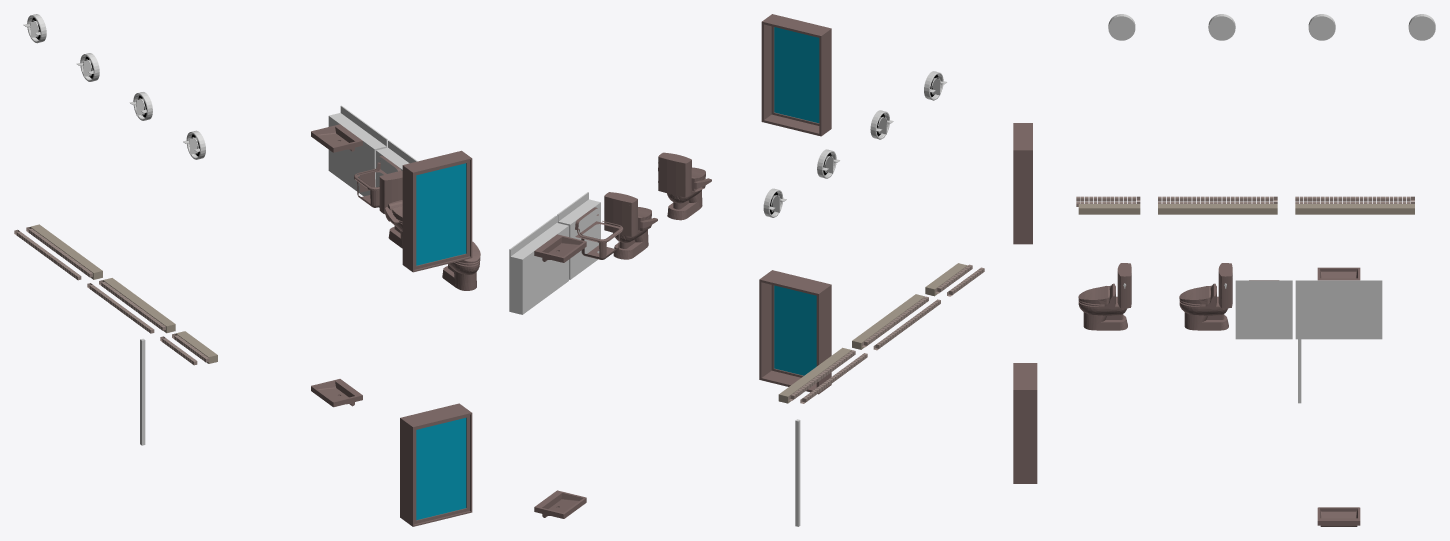
3 views of the same model, side by side, from view 1: azimuth 30°, elevation 25°; view 2: azimuth 150°, elevation 25°; view 3: azimuth 270°, elevation 25° (orthographic). The views are drawn at different scales.
Size of the model in its own units: 4.72 by 6.03 by 5.91.
